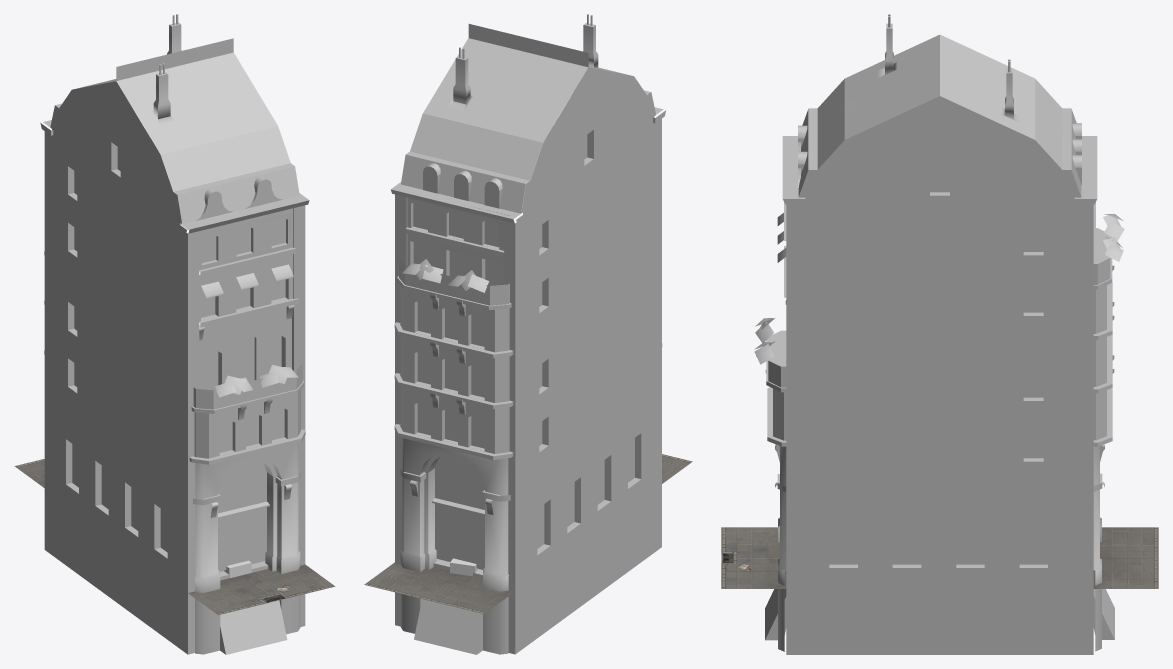
The picture shows the model from 3 angles, left to right: view 1: azimuth 30°, elevation 25°; view 2: azimuth 150°, elevation 25°; view 3: azimuth 270°, elevation 25°; orthographic projection. The views are drawn at different scales.
Parts seen in each view (by area): view 1: _var2_lod0, file_city_center2, file_city_center2.001; view 2: _var2_lod0, file_city_center2.001, file_city_center2; view 3: _var2_lod0, file_city_center2, file_city_center2.001.
Boxes of the visible parts, x1,y1,x2,y2 form: _var2_lod0: (40, 14, 309, 654); file_city_center2: (188, 564, 335, 615); file_city_center2.001: (14, 459, 44, 487); _var2_lod0: (391, 14, 666, 654); file_city_center2.001: (364, 562, 514, 613); file_city_center2: (662, 454, 692, 483); _var2_lod0: (754, 14, 1124, 654); file_city_center2: (721, 527, 786, 588); file_city_center2.001: (1093, 527, 1158, 588).
Size of what is drawn, in the model's own units: 1.04 by 4.47 by 3.
